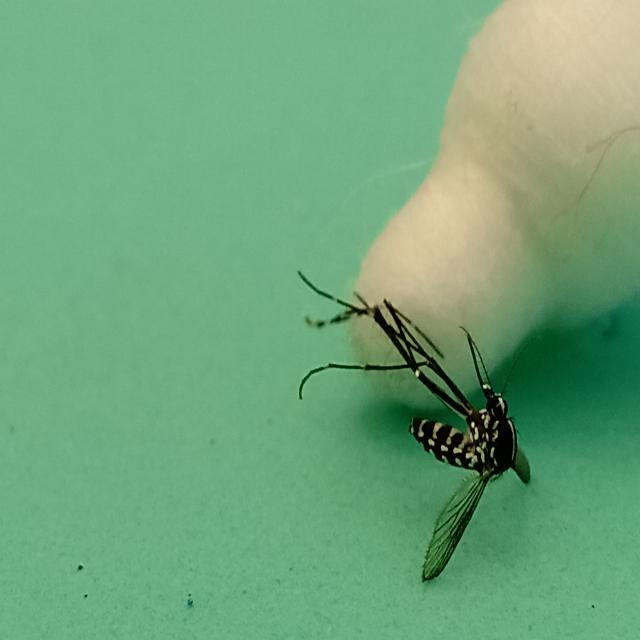albopictus: (294, 231, 524, 576)
